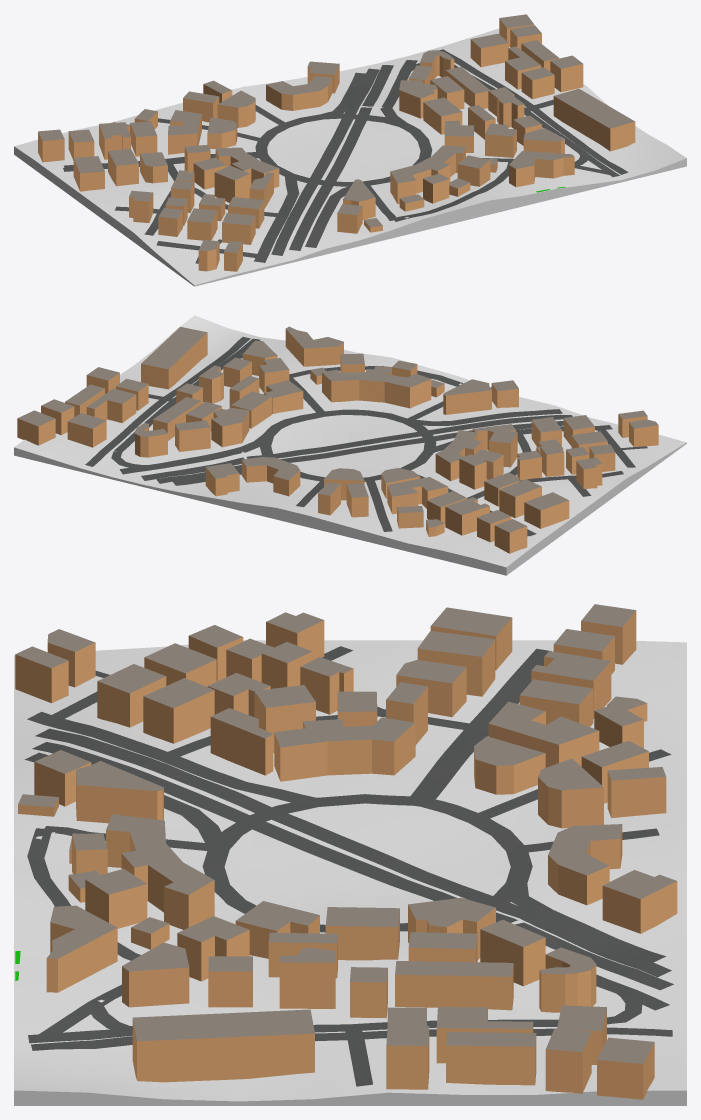
File: KingsCircleOSM.fbx
The picture shows the model from 3 angles, top to bottom: view 1: azimuth 30°, elevation 25°; view 2: azimuth 150°, elevation 25°; view 3: azimuth 270°, elevation 25°; orthographic projection. The views are drawn at different scales.
Parts seen in each view (by area): view 1: Terrain, Don Bosco International School, King's Circle Flyover, King's Circle Flyover.001, Radha Bhavan, element.036, Ram Niwas, Tara Niwas, Nathalal Parekh Road, Mohanlal Mansion, element.033, F/N BMC Ward Office (+52 smaller); view 2: Terrain, Radha Bhavan, Don Bosco International School, King's Circle Flyover.001, Ram Niwas, element.036, King's Circle Flyover, Tara Niwas, Noor Mahal, Mohanlal Mansion, element.033, Chaman House (+54 smaller); view 3: Terrain, Don Bosco International School, King's Circle Flyover, Mohanlal Mansion, Radha Bhavan, King's Circle Flyover.001, element.031, Ram Niwas, element.027, element.036, Noor Mahal, Tara Niwas (+67 smaller).
Boxes of the visible parts, bbox=[...] form: Terrain: bbox=[14, 28, 686, 286]; Don Bosco International School: bbox=[553, 88, 635, 151]; King's Circle Flyover: bbox=[271, 68, 379, 255]; King's Circle Flyover.001: bbox=[289, 65, 393, 250]; Radha Bhavan: bbox=[390, 145, 465, 204]; element.036: bbox=[509, 151, 574, 187]; Ram Niwas: bbox=[266, 76, 332, 110]; Tara Niwas: bbox=[168, 110, 201, 154]; Nathalal Parekh Road: bbox=[439, 49, 628, 174]; Mohanlal Mansion: bbox=[215, 147, 279, 187]; element.033: bbox=[399, 80, 437, 118]; F/N BMC Ward Office: bbox=[214, 165, 250, 202]; Terrain: bbox=[14, 315, 686, 575]; Radha Bhavan: bbox=[322, 369, 431, 408]; Don Bosco International School: bbox=[141, 327, 207, 389]; King's Circle Flyover.001: bbox=[141, 414, 572, 480]; Ram Niwas: bbox=[241, 457, 300, 496]; element.036: bbox=[285, 326, 343, 366]; King's Circle Flyover: bbox=[156, 421, 563, 483]; Tara Niwas: bbox=[387, 477, 448, 514]; Noor Mahal: bbox=[443, 379, 491, 414]; Mohanlal Mansion: bbox=[435, 429, 481, 481]; element.033: bbox=[211, 408, 249, 447]; Chaman House: bbox=[524, 492, 569, 528]; Terrain: bbox=[14, 640, 686, 1105]; Don Bosco International School: bbox=[132, 1009, 314, 1082]; King's Circle Flyover: bbox=[35, 728, 671, 977]; Mohanlal Mansion: bbox=[274, 717, 415, 781]; Radha Bhavan: bbox=[106, 814, 214, 929]; King's Circle Flyover.001: bbox=[32, 742, 673, 990]; element.031: bbox=[395, 961, 513, 1010]; Ram Niwas: bbox=[548, 824, 622, 905]; element.027: bbox=[446, 1032, 536, 1085]; element.036: bbox=[46, 905, 117, 992]; Noor Mahal: bbox=[76, 761, 163, 823]; Tara Niwas: bbox=[488, 701, 599, 767].
Bounding box in the file's own units: 44601 × 2896 × 27830.
